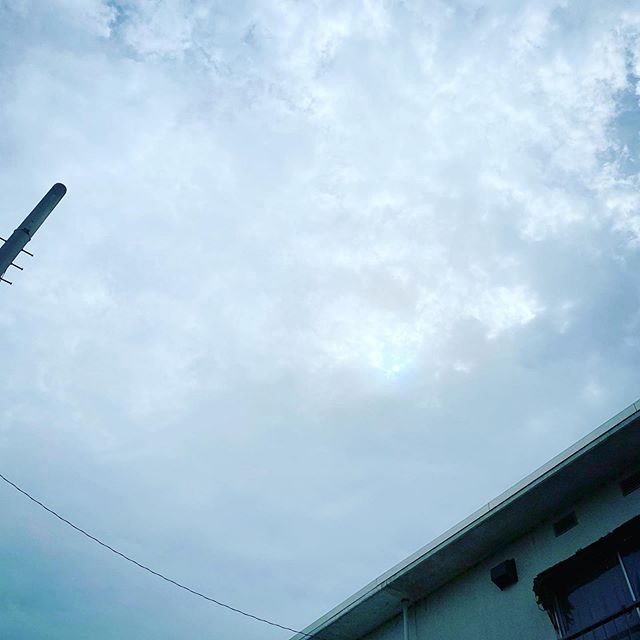building: (303, 411, 640, 640)
sky: (8, 1, 640, 632)
